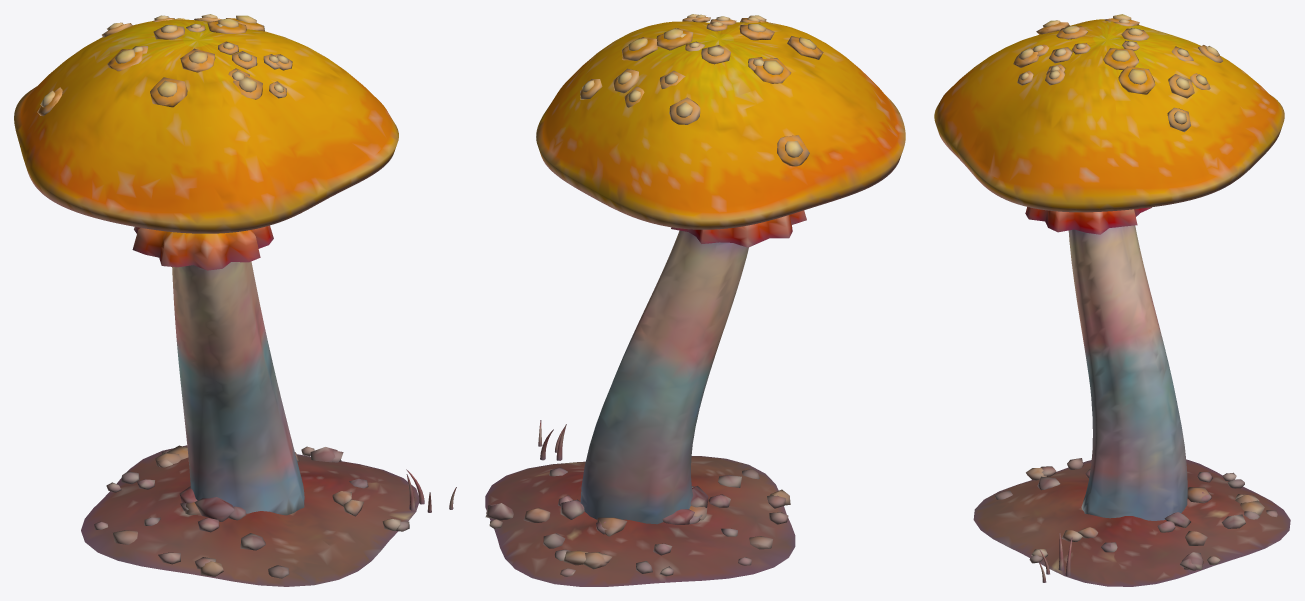
Rendered from mantar_kume_2.glb.
3 views of the same model, side by side, from view 1: azimuth 30°, elevation 25°; view 2: azimuth 150°, elevation 25°; view 3: azimuth 270°, elevation 25° (orthographic). The views are drawn at different scales.
Parts seen in each view (by area): view 1: mantar_kume_2_LOD0; view 2: mantar_kume_2_LOD0; view 3: mantar_kume_2_LOD0.
Boxes of the visible parts, box(x1,y1,x2,y2) form: mantar_kume_2_LOD0: box(14, 14, 456, 586); mantar_kume_2_LOD0: box(485, 14, 905, 586); mantar_kume_2_LOD0: box(934, 14, 1290, 586).
Size of what is drawn, in the model's own units: 12.65 by 16.23 by 11.29.
